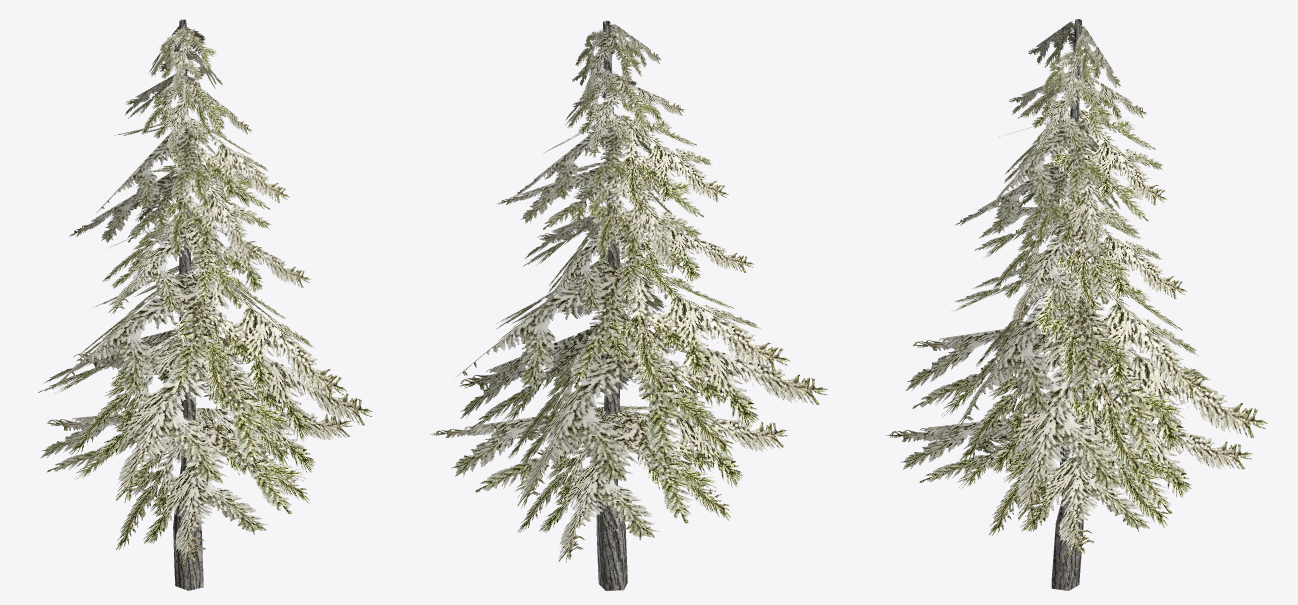
File: Tree01.fbx
3 views of the same model, side by side, from view 1: azimuth 30°, elevation 25°; view 2: azimuth 150°, elevation 25°; view 3: azimuth 270°, elevation 25° (orthographic).
Parts seen in each view (by area): view 1: Tree_Pine_Snowy_T1.001; view 2: Tree_Pine_Snowy_T1.001; view 3: Tree_Pine_Snowy_T1.001.
Part boxes in pixels (x1,y1,x2,y2): Tree_Pine_Snowy_T1.001: (38, 19, 372, 590); Tree_Pine_Snowy_T1.001: (429, 20, 827, 590); Tree_Pine_Snowy_T1.001: (886, 19, 1267, 590).
Bounding box in the file's own units: 6.79 × 10.5 × 6.89.
